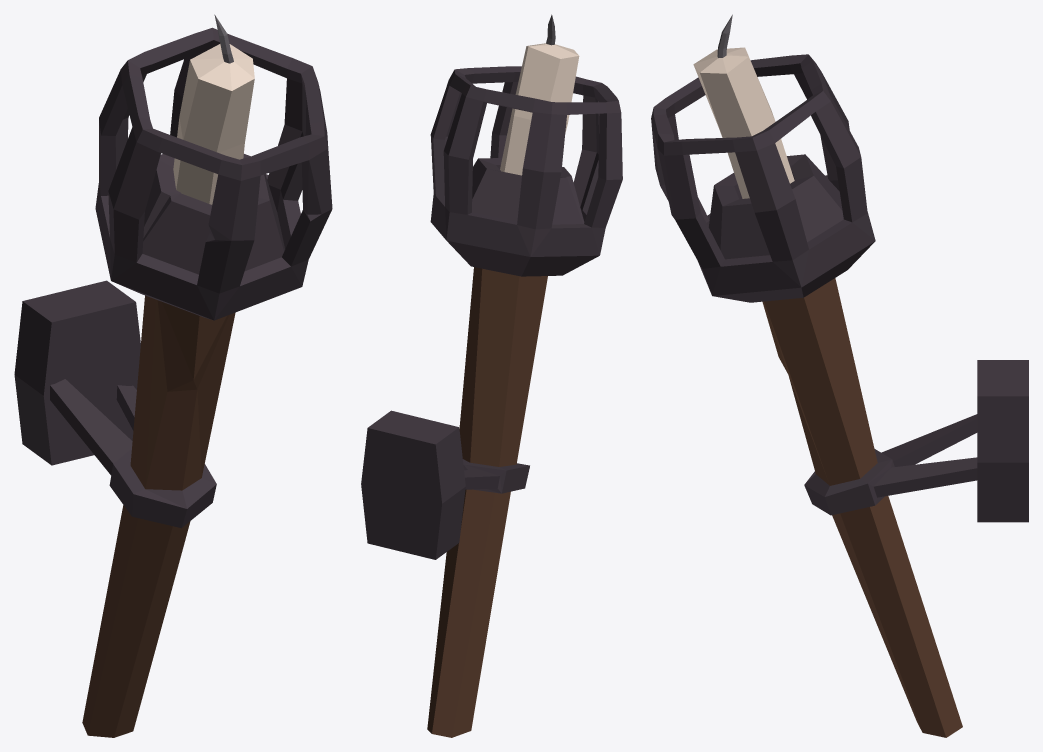
Rendered from WallTorch_2.fbx.
3 renders of one model, left to right at view 1: azimuth 30°, elevation 25°; view 2: azimuth 150°, elevation 25°; view 3: azimuth 270°, elevation 25°, orthographic. The views are drawn at different scales.
Parts seen in each view (by area): view 1: WallTorch_2; view 2: WallTorch_2; view 3: WallTorch_2.
Boxes of the visible parts, left/top/right/bottom form: WallTorch_2: left=14, top=14, right=332, bottom=737; WallTorch_2: left=361, top=14, right=622, bottom=737; WallTorch_2: left=651, top=14, right=1028, bottom=737.
Bounding box in the file's own units: 0.2014 × 0.7056 × 0.3405.
